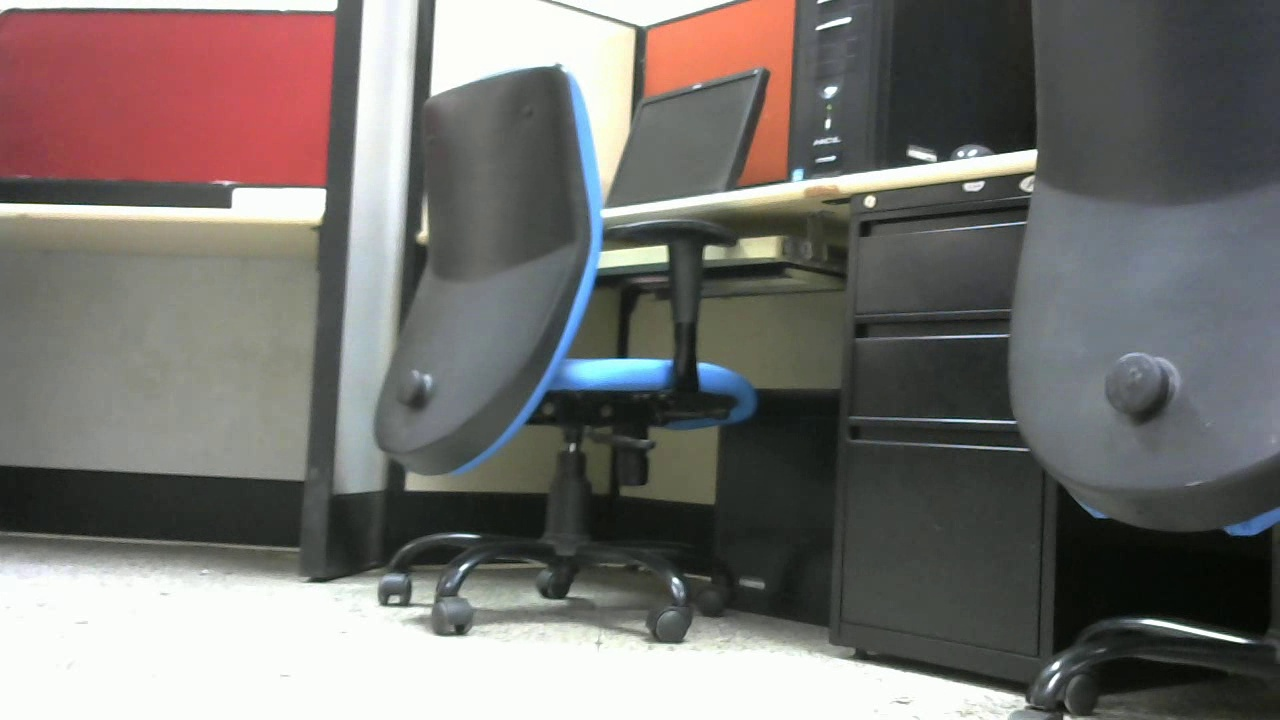chair: (374, 63, 758, 648), (1008, 1, 1280, 720)
